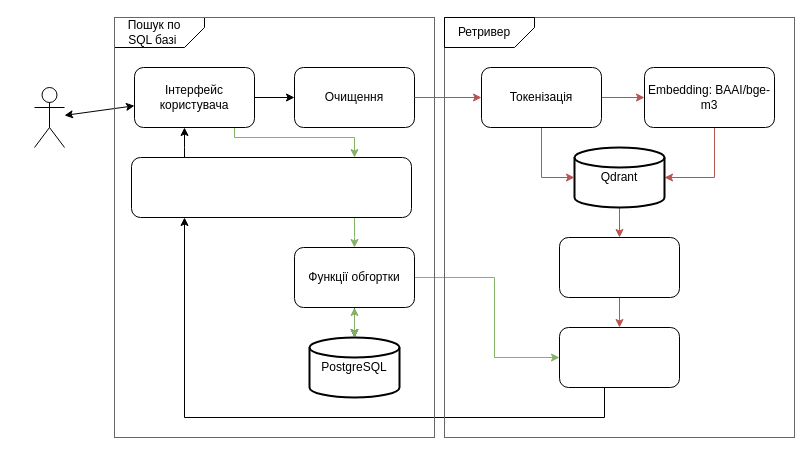
The diagram is 812 pixels wide and 455 high, and some of its shapes have lost their labels. Each missing label, with the box of its shape:
LLM: Qwen 2.5 7B: (130, 156, 412, 218)
Користувач: (34, 86, 64, 148)
Об'єдання результатів: (558, 236, 680, 298)
Формування контексту: (558, 326, 680, 388)
